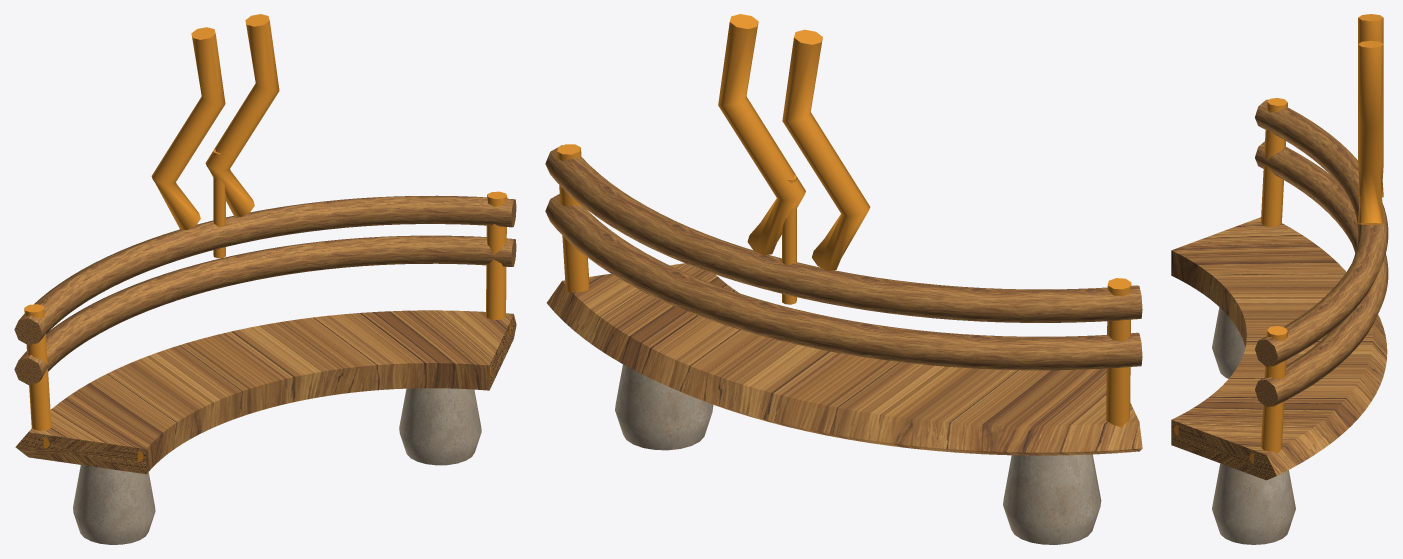
The model's file is 10_Banco_Curvo.obj.
3 views of the same model, side by side, from view 1: azimuth 30°, elevation 25°; view 2: azimuth 150°, elevation 25°; view 3: azimuth 270°, elevation 25° (orthographic). The views are drawn at different scales.
Parts seen in each view (by area): view 1: Asiento_y_respaldo_curvos, Insignia; view 2: Asiento_y_respaldo_curvos, Insignia; view 3: Asiento_y_respaldo_curvos, Insignia.
Boxes of the visible parts, x1,y1,x2,y2 form: Asiento_y_respaldo_curvos: (14, 191, 516, 544); Insignia: (151, 14, 279, 258); Asiento_y_respaldo_curvos: (545, 144, 1142, 544); Insignia: (718, 14, 870, 304); Asiento_y_respaldo_curvos: (1171, 98, 1388, 544); Insignia: (1358, 14, 1383, 224).
Size of the model in its own units: 2.51 by 2.01 by 0.9277.
